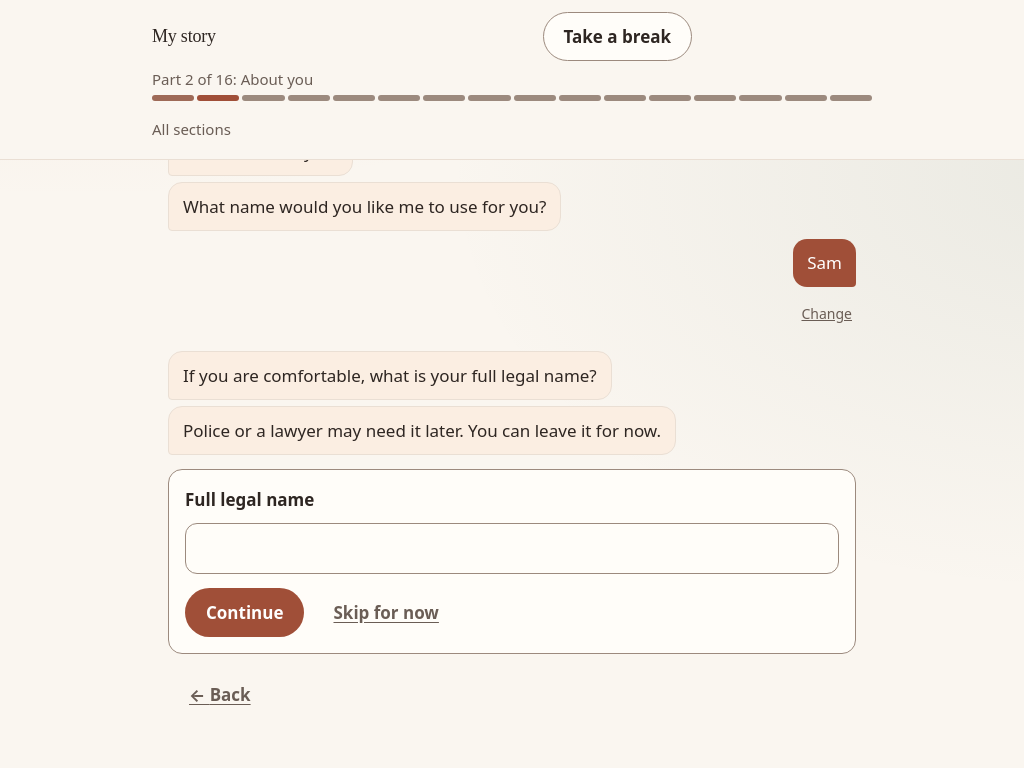
it: IntakeChat › resumes from a draft and can go back to a previous question
(page scrolled)
Expected: the text "Part 2 of 16: About you" is shown, [152,69,313,89]
Expected: the text "Sam" is shown, [793,239,856,287]
Click the button "← Back".
click(220, 695)  # box [168,670,272,720]
(page scrolled)
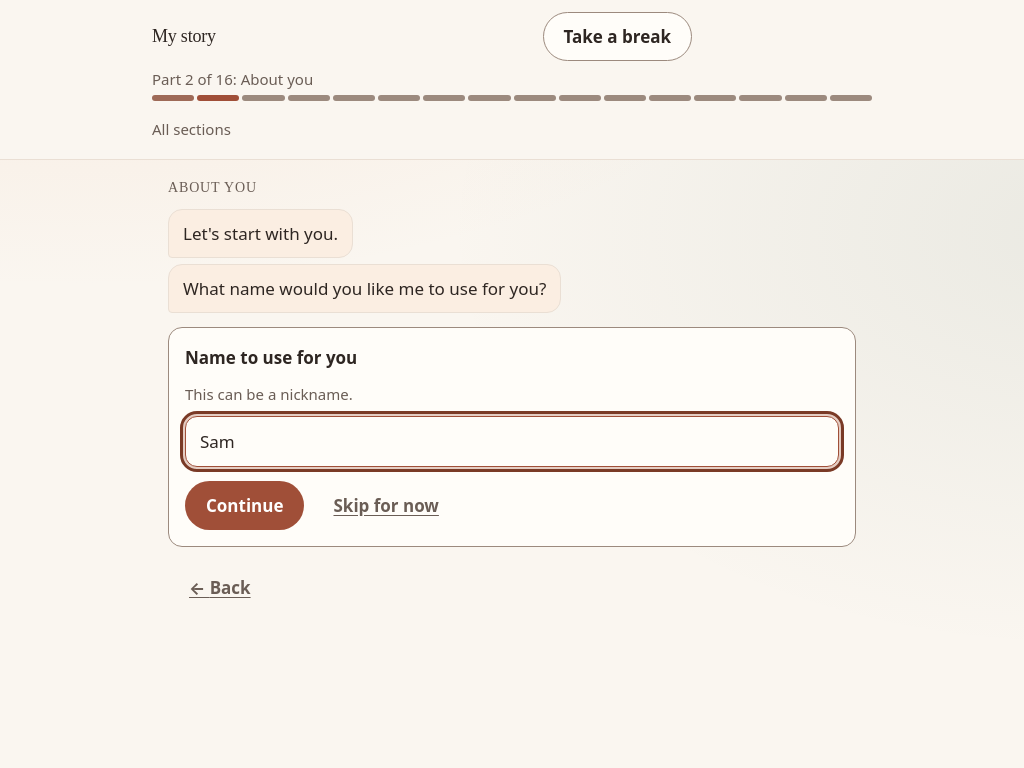
Expected: the field labelled "Name to use for you" holds "Sam", [185,416,839,467]
